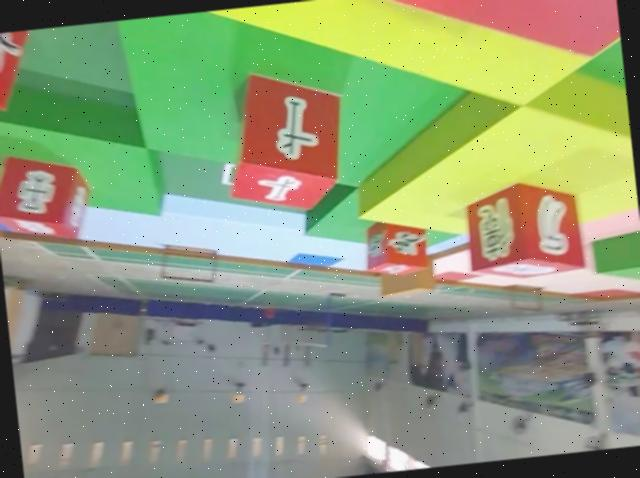R1: (363, 215, 432, 279)
R2 Fake: (463, 176, 587, 283)
R2 Real: (218, 59, 353, 218), (0, 143, 93, 247)
